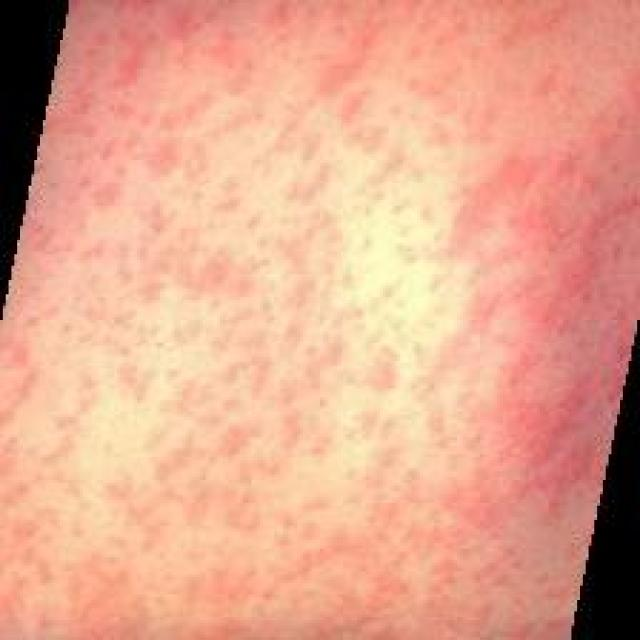others: (48, 0, 595, 640)
